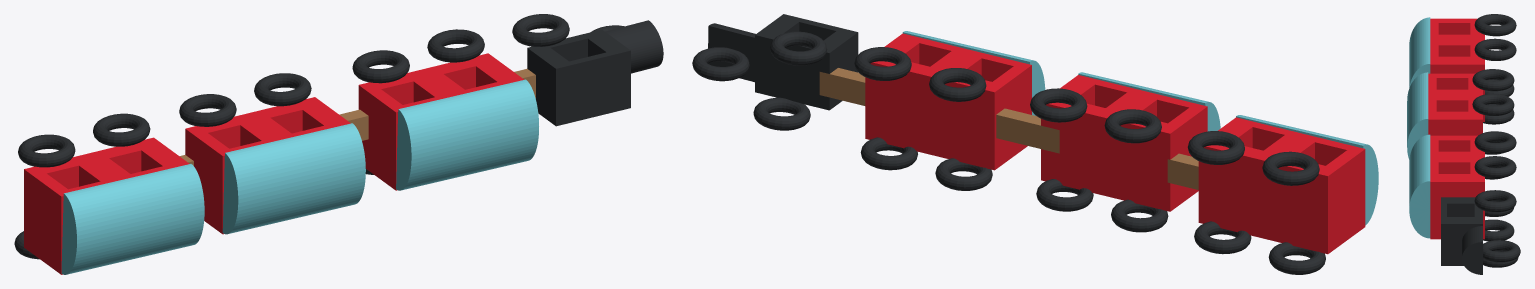
The model's file is tinker.obj.
The picture shows the model from 3 angles, left to right: view 1: azimuth 30°, elevation 25°; view 2: azimuth 150°, elevation 25°; view 3: azimuth 270°, elevation 25°; orthographic projection. The views are drawn at different scales.
Visible parts, largest first — view 1: group_0_7720667, group_0_15277357, group_0_2829873, group_0_11107152; view 2: group_0_15277357, group_0_2829873, group_0_11107152, group_0_7720667; view 3: group_0_2829873, group_0_15277357, group_0_7720667.
Part boxes in pixels (box(x1,y1,x2,y2)): group_0_7720667: box(61, 79, 538, 274); group_0_15277357: box(24, 53, 523, 274); group_0_2829873: box(14, 14, 663, 259); group_0_11107152: box(179, 69, 535, 165); group_0_15277357: box(865, 33, 1365, 254); group_0_2829873: box(692, 14, 1325, 274); group_0_11107152: box(819, 68, 1198, 189); group_0_7720667: box(902, 31, 1378, 225); group_0_2829873: box(1441, 14, 1520, 274); group_0_15277357: box(1428, 18, 1484, 239); group_0_7720667: box(1407, 17, 1430, 238).
Size of the model in its own units: 250 by 42 by 54.
